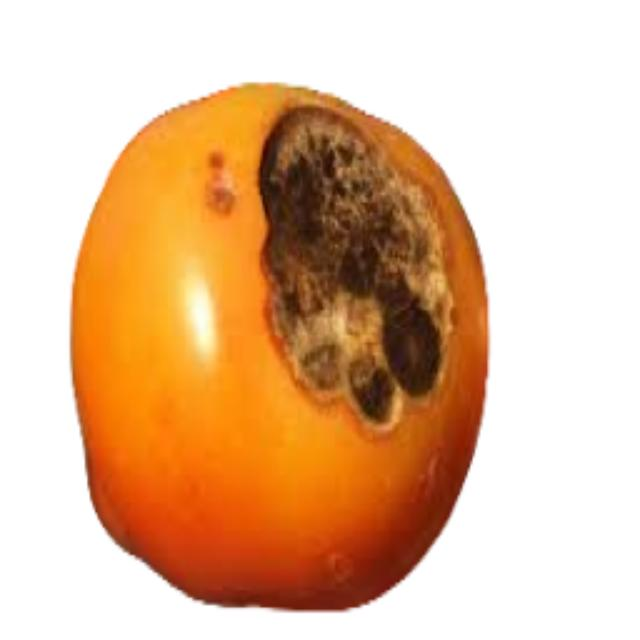defect: (63, 80, 496, 614)
